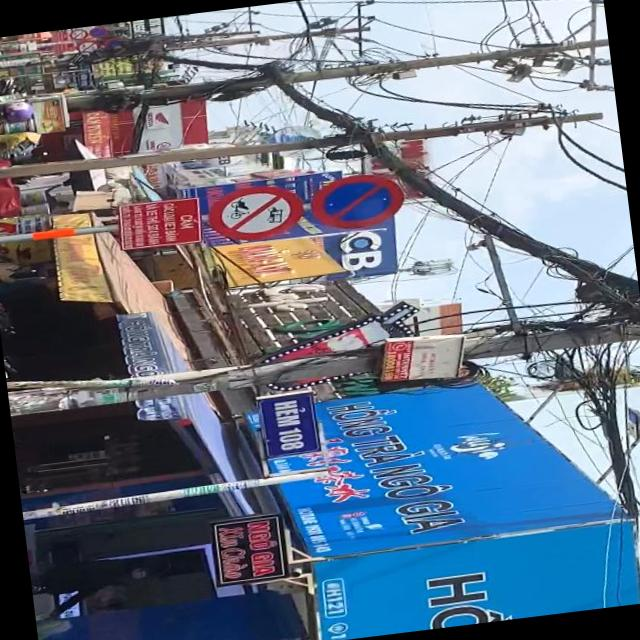P-131a: (309, 168, 404, 234)
